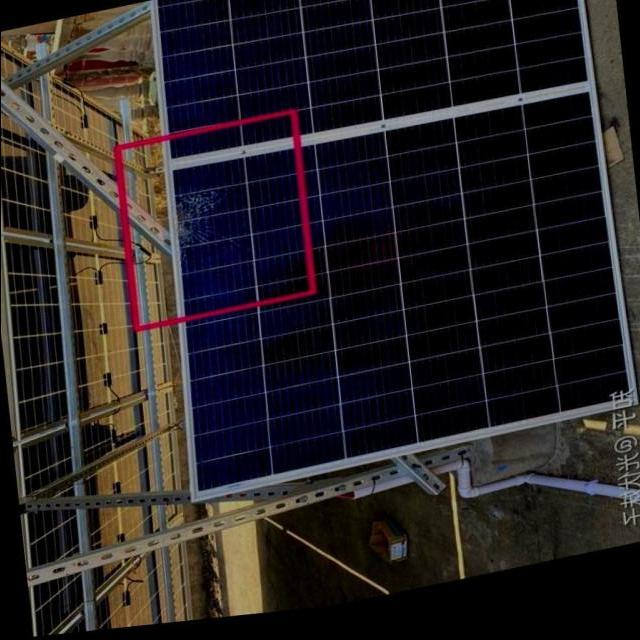cracked: (170, 157, 248, 270)
